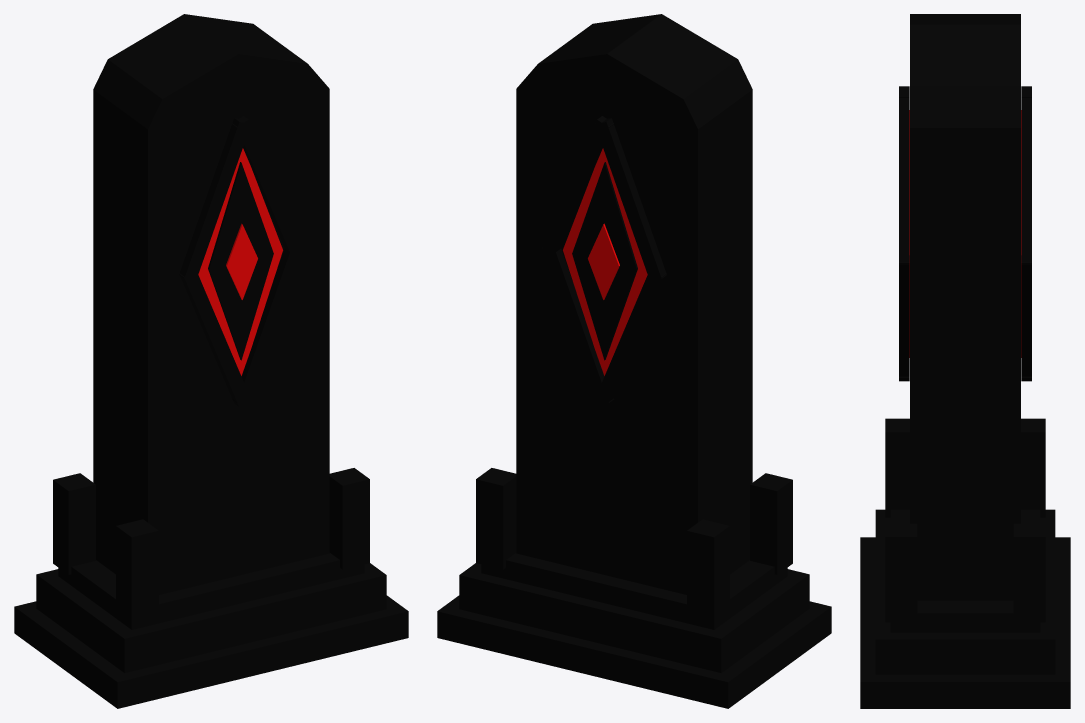
3 views of the same model, side by side, from view 1: azimuth 30°, elevation 25°; view 2: azimuth 150°, elevation 25°; view 3: azimuth 270°, elevation 25° (orthographic).
Parts seen in each view (by area): view 1: stone, glyph; view 2: stone, glyph; view 3: stone, glyph.
Boxes of the visible parts, x1,y1,x2,y2 form: stone: [14, 14, 408, 708]; glyph: [198, 148, 282, 375]; stone: [437, 14, 831, 708]; glyph: [563, 148, 647, 375]; stone: [860, 14, 1070, 708]; glyph: [909, 110, 1021, 357].
Bounding box in the file's own units: 0.8 × 1.58 × 0.4923.
